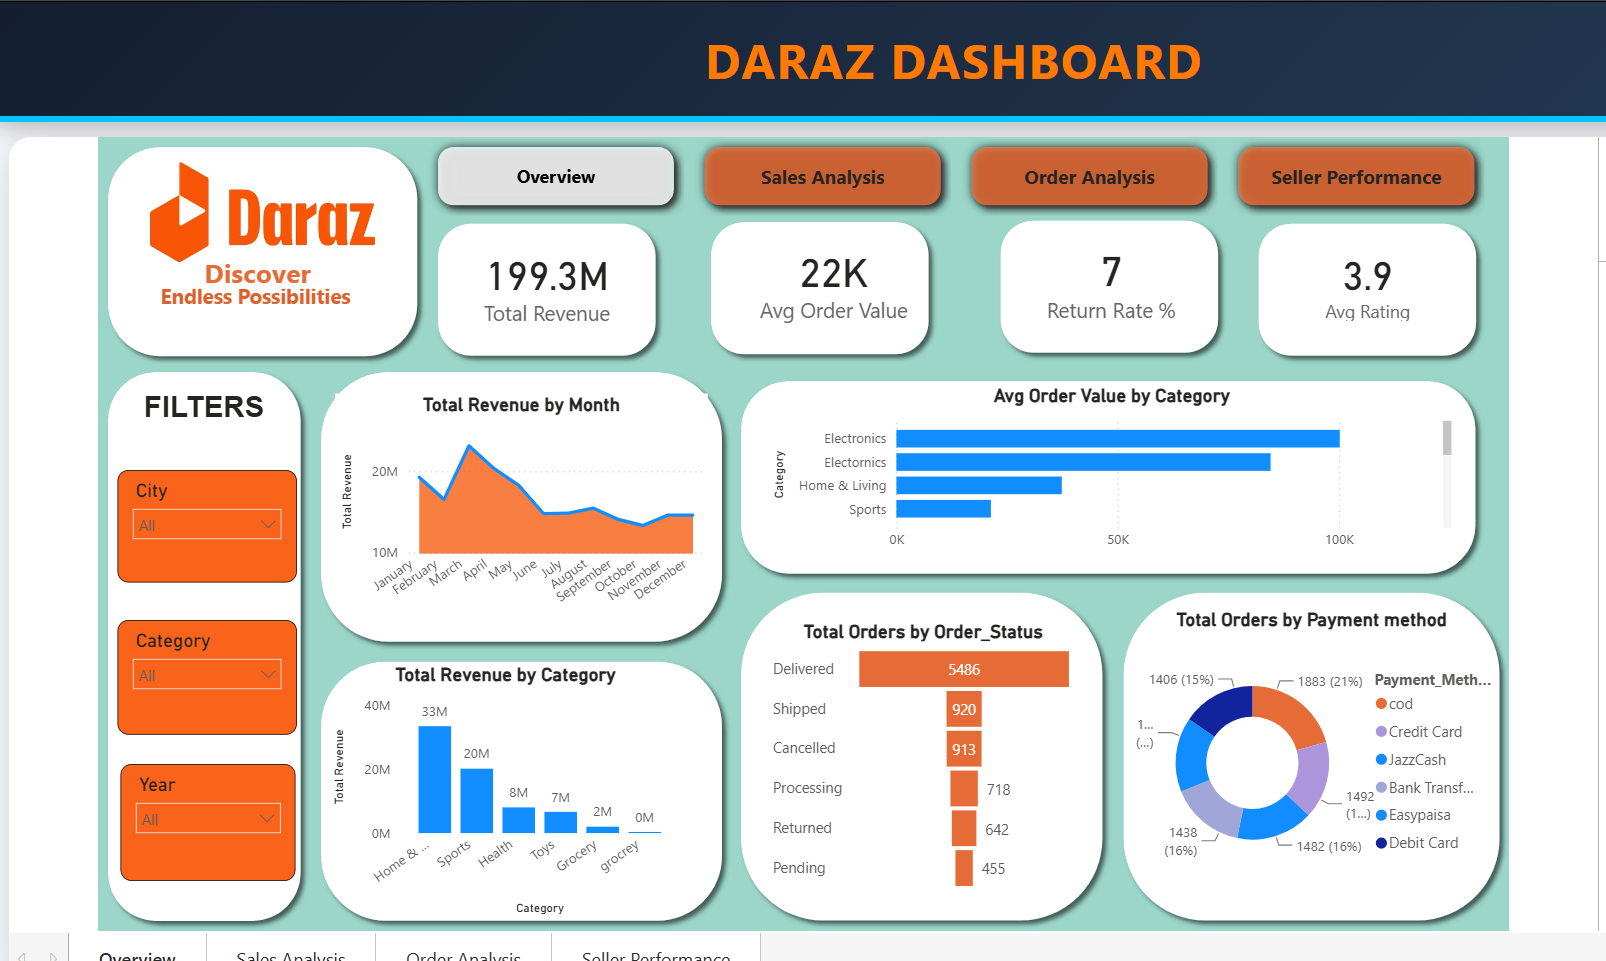

This screenshot's page, from the dashboard's own definition file:
{"tool":"powerbi","page":{"name":"Overview","canvas":[1280,720],"ordinal":0},"visuals":[{"type":"textbox","box":[321.3,18.9,13.2,39.7],"z":0},{"type":"shape","box":[0,204.1,192.8,515.9],"z":1000},{"type":"shape","box":[0,0,298.6,207.9],"z":2000},{"type":"slicer","fields":{"Values":["Daraz.Category"]},"box":[17,438.4,162.5,103.9],"z":3000},{"type":"slicer","fields":{"Values":["Daraz.Customer_City"]},"box":[17,302.4,162.5,102],"z":4000},{"type":"slicer","fields":{"Values":["Daraz.Order_Date.Variation.Date Hierarchy.Year"]},"box":[20.8,568.8,158.7,105.8],"z":5000},{"type":"textbox","box":[0,224.9,192.8,60.5],"z":6000},{"type":"shape","box":[298.6,69.9,215.4,138],"z":7000},{"type":"PBI_CV_7B952816_A48F_49B4_9E13_15E3BB2C0337","fields":{"Values":["Daraz.Total Revenue"]},"box":[298.6,103.9,215.4,68],"z":8000},{"type":"shape","box":[574.5,211.7,684.1,192.8],"z":9000},{"type":"shape","box":[192.8,204.1,381.7,262.7],"z":10000},{"type":"lineChart","fields":{"Category":["Daraz.Order_Date.Variation.Date Hierarchy.Month"],"Y":["Daraz.Total Revenue"]},"box":[215.4,232.4,338.3,207.9],"z":11000},{"type":"shape","box":[920.3,404.4,359.1,315.6],"z":12000},{"type":"donutChart","title":"Total Orders by Payment method","fields":{"Category":["Daraz.Payment_Method"],"Y":["Daraz.Total Orders"]},"box":[929.8,427.1,340.2,260.8],"z":13000},{"type":"shape","box":[574.5,404.4,345.8,315.6],"z":14000},{"type":"shape","box":[192.8,466.8,381.7,253.2],"z":15000},{"type":"columnChart","fields":{"Category":["Daraz.Category"],"Y":["Daraz.Total Revenue"]},"box":[207.9,478.1,323.2,232.4],"z":16000},{"type":"pageNavigator","box":[298.6,0,960,71.8],"z":17000},{"type":"shape","box":[546.1,68,215.4,138],"z":18000},{"type":"PBI_CV_7B952816_A48F_49B4_9E13_15E3BB2C0337","fields":{"Values":["Daraz.Avg Order Value"]},"box":[585.8,73.7,162.5,122.8],"z":19000},{"type":"shape","box":[808.8,66.1,215.4,138],"z":20000},{"type":"PBI_CV_7B952816_A48F_49B4_9E13_15E3BB2C0337","fields":{"Values":["Daraz.Return Rate %"]},"box":[848.5,96.4,139.8,75.6],"z":21000},{"type":"shape","box":[1043.2,69.9,215.4,138],"z":22000},{"type":"PBI_CV_7B952816_A48F_49B4_9E13_15E3BB2C0337","fields":{"Values":["Daraz.Avg Rating"]},"box":[1099.9,96.4,102,75.6],"z":23000},{"type":"barChart","fields":{"Y":["Daraz.Avg Order Value"],"Category":["Daraz.Category"]},"box":[606.6,224.9,625.5,158.7],"z":24000},{"type":"funnel","fields":{"Y":["Daraz.Total Orders"],"Category":["Daraz.Order_Status"]},"box":[606.6,438.4,283.5,249.5],"z":25000},{"type":"textbox","box":[52,126,208,70],"z":26000},{"type":"image","box":[38,18,222,120],"z":27000},{"type":"textbox","box":[96,104,138,42],"z":28000}]}

Visuals, with their boxes on the page's 1280x720 design canvas (x1, y1, x2, y2). These are canvas units, not pixel positions in the 1606x961 screenshot, which may show the page scaled, cropped or inside an application window:
textbox: <region>321, 19, 334, 59</region>
shape: <region>0, 204, 193, 720</region>
shape: <region>0, 0, 299, 208</region>
slicer - Daraz.Category: <region>17, 438, 180, 542</region>
slicer - Daraz.Customer_City: <region>17, 302, 180, 404</region>
slicer - Daraz.Order_Date.Variation.Date Hierarchy.Year: <region>21, 569, 180, 675</region>
textbox: <region>0, 225, 193, 285</region>
shape: <region>299, 70, 514, 208</region>
PBI_CV_7B952816_A48F_49B4_9E13_15E3BB2C0337 - Daraz.Total Revenue: <region>299, 104, 514, 172</region>
shape: <region>574, 212, 1259, 404</region>
shape: <region>193, 204, 574, 467</region>
lineChart - Daraz.Order_Date.Variation.Date Hierarchy.Month x Daraz.Total Revenue: <region>215, 232, 554, 440</region>
shape: <region>920, 404, 1279, 720</region>
"Total Orders by Payment method" donutChart: <region>930, 427, 1270, 688</region>
shape: <region>574, 404, 920, 720</region>
shape: <region>193, 467, 574, 720</region>
columnChart - Daraz.Category x Daraz.Total Revenue: <region>208, 478, 531, 710</region>
pageNavigator: <region>299, 0, 1259, 72</region>
shape: <region>546, 68, 762, 206</region>
PBI_CV_7B952816_A48F_49B4_9E13_15E3BB2C0337 - Daraz.Avg Order Value: <region>586, 74, 748, 196</region>
shape: <region>809, 66, 1024, 204</region>
PBI_CV_7B952816_A48F_49B4_9E13_15E3BB2C0337 - Daraz.Return Rate %: <region>848, 96, 988, 172</region>
shape: <region>1043, 70, 1259, 208</region>
PBI_CV_7B952816_A48F_49B4_9E13_15E3BB2C0337 - Daraz.Avg Rating: <region>1100, 96, 1202, 172</region>
barChart - Daraz.Avg Order Value x Daraz.Category: <region>607, 225, 1232, 384</region>
funnel - Daraz.Total Orders x Daraz.Order_Status: <region>607, 438, 890, 688</region>
textbox: <region>52, 126, 260, 196</region>
image: <region>38, 18, 260, 138</region>
textbox: <region>96, 104, 234, 146</region>
